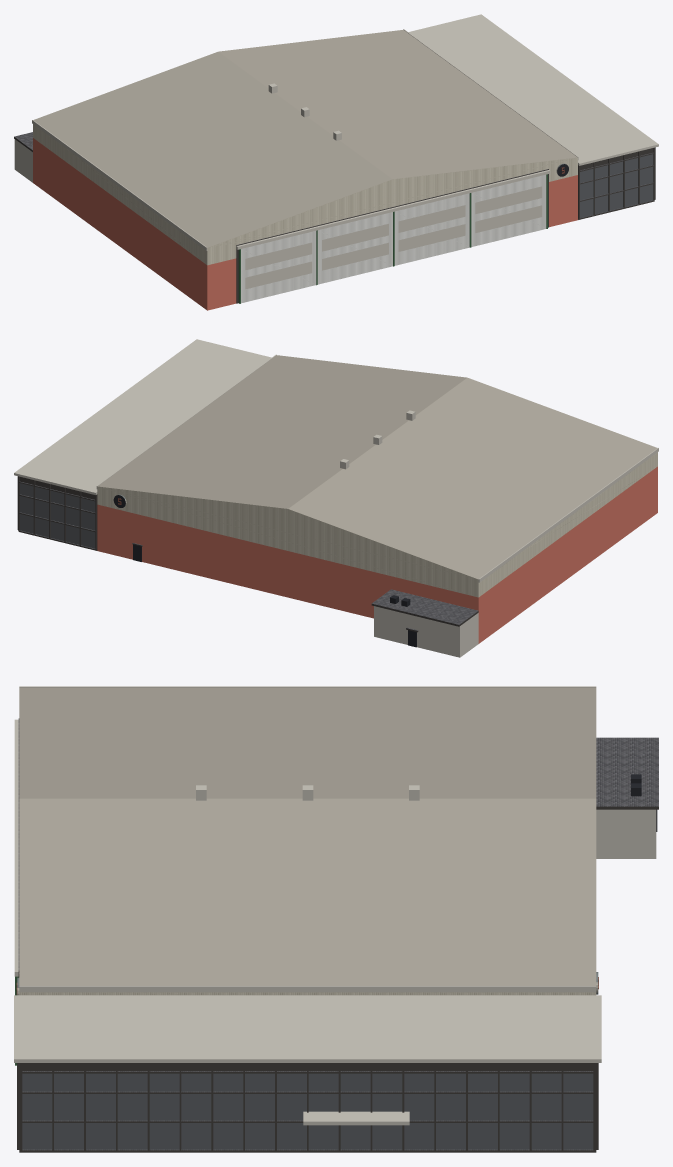
The model's file is cyxd_hangar5.gltf.
3 renders of one model, top to bottom at view 1: azimuth 30°, elevation 25°; view 2: azimuth 150°, elevation 25°; view 3: azimuth 270°, elevation 25°, orthographic. The views are drawn at different scales.
Visible parts, largest first — view 1: cyxd_hangar5; view 2: cyxd_hangar5; view 3: cyxd_hangar5.
Boxes of the visible parts, x1,y1,x2,y2 form: cyxd_hangar5: (14, 14, 658, 310); cyxd_hangar5: (14, 339, 658, 657); cyxd_hangar5: (14, 686, 658, 1152).
Size of the model in its own units: 66.02 by 12.7 by 48.4.
